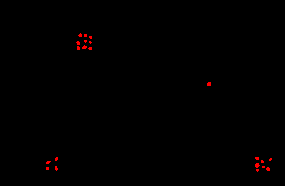Target: (255, 163, 260, 168), (82, 45, 87, 49), (78, 33, 82, 37), (76, 41, 80, 45), (207, 82, 211, 86), (266, 167, 270, 171), (46, 161, 51, 164), (55, 166, 58, 171), (77, 46, 80, 50), (88, 47, 92, 50), (55, 157, 58, 161), (255, 157, 259, 160), (84, 34, 87, 37), (89, 36, 92, 39), (84, 40, 87, 43), (89, 41, 92, 44), (269, 158, 272, 161), (261, 160, 264, 163), (46, 167, 49, 170), (256, 169, 259, 172), (262, 166, 265, 168)
